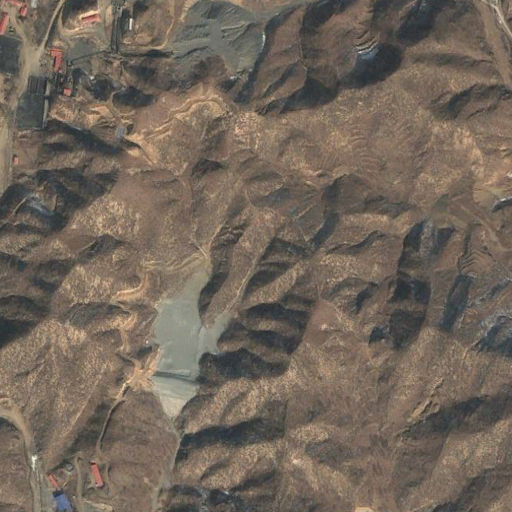tp: (146, 262, 230, 419)
